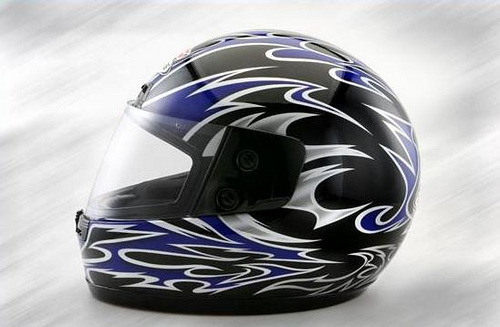helmet: (110, 43, 419, 277)
